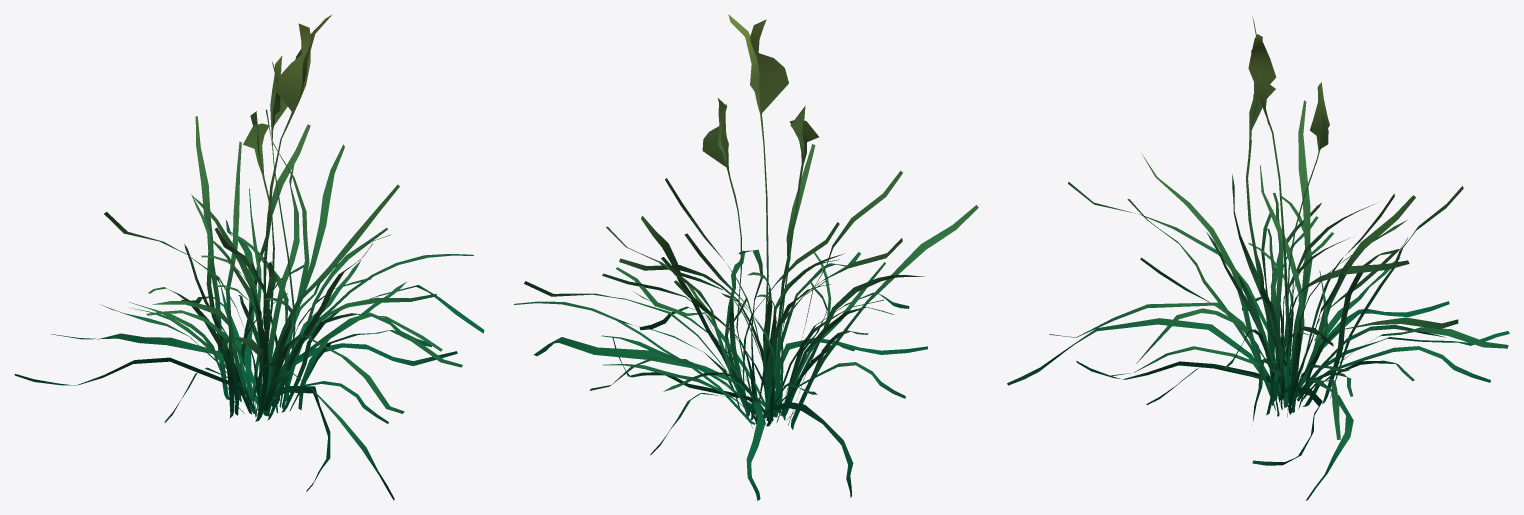
The model's file is grass_medium_01_4.glb.
3 renders of one model, left to right at view 1: azimuth 30°, elevation 25°; view 2: azimuth 150°, elevation 25°; view 3: azimuth 270°, elevation 25°, orthographic. The views are drawn at different scales.
Visible parts, largest first — view 1: grass_medium_01_mid_b_LOD0; view 2: grass_medium_01_mid_b_LOD0; view 3: grass_medium_01_mid_b_LOD0.
Part boxes in pixels (<box>): grass_medium_01_mid_b_LOD0: <box>14,14,484,500</box>; grass_medium_01_mid_b_LOD0: <box>514,14,978,500</box>; grass_medium_01_mid_b_LOD0: <box>1007,16,1509,500</box>.
Size of the model in its own units: 0.1878 by 0.1777 by 0.201.
